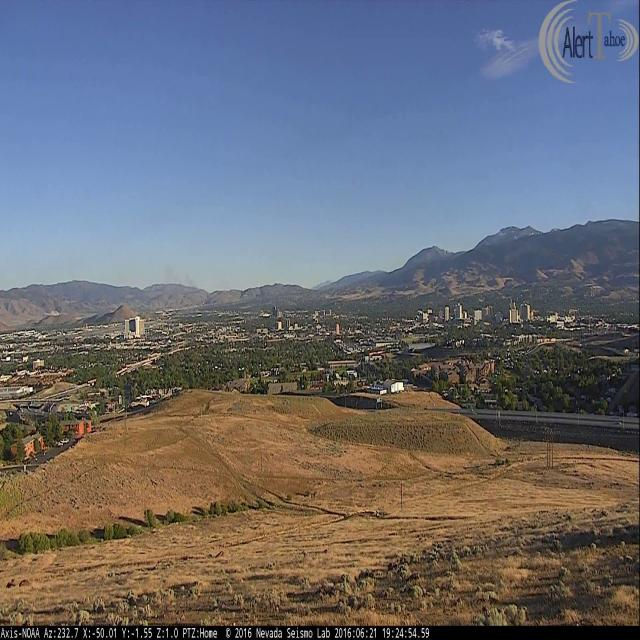smoke: (163, 266, 198, 290)
